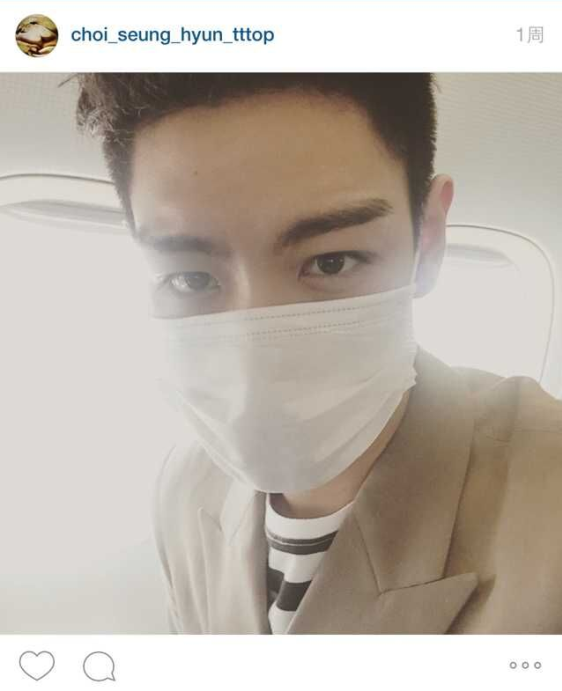face_mask: (141, 101, 411, 484)
